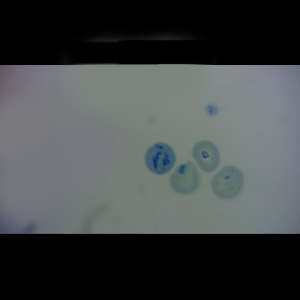aggregate reticulocyte: (143, 141, 178, 176)
erythrocyte: (211, 164, 246, 201), (169, 161, 202, 195), (191, 139, 222, 173)
